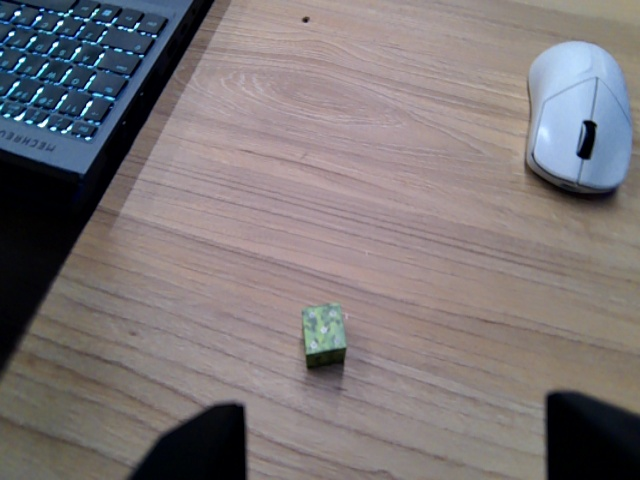grass: (295, 302, 349, 366)
